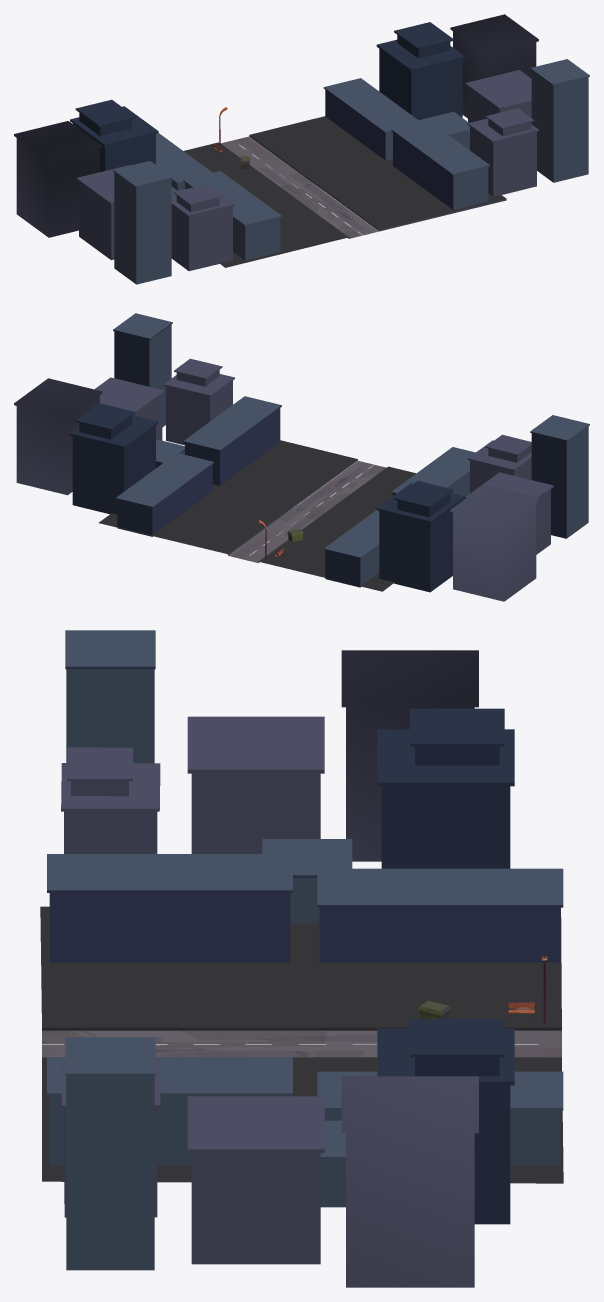
Rendered from City 1.fbx.
3 views of the same model, one above another, from view 1: azimuth 30°, elevation 25°; view 2: azimuth 150°, elevation 25°; view 3: azimuth 270°, elevation 25° (orthographic). The views are drawn at different scales.
Visible parts, largest first — view 1: Cube.011, Plane.003, Plane.002; view 2: Cube.011, Plane.003, Plane.002; view 3: Cube.011, Plane.002, Plane.003.
Part boxes in pixels (left/top/right/bottom): Cube.011: left=14, top=14, right=589, bottom=284; Plane.003: left=249, top=116, right=506, bottom=231; Plane.002: left=184, top=136, right=378, bottom=267; Cube.011: left=14, top=313, right=589, bottom=601; Plane.003: left=98, top=440, right=357, bottom=555; Plane.002: left=228, top=460, right=415, bottom=591; Cube.011: left=47, top=630, right=563, bottom=1287; Plane.002: left=40, top=906, right=561, bottom=1057; Plane.003: left=42, top=1057, right=563, bottom=1183.
Bounding box in the file's own units: 11403 × 2197 × 5264.
